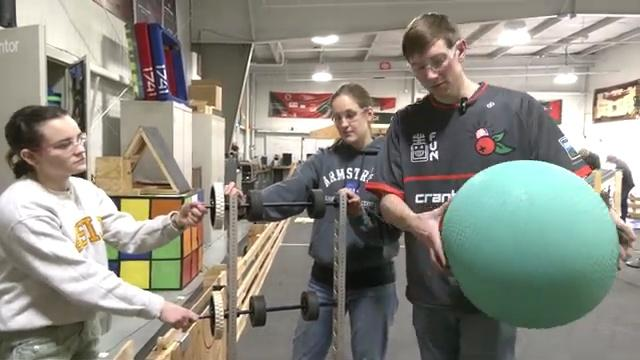ALGAE: (439, 158, 621, 329)
